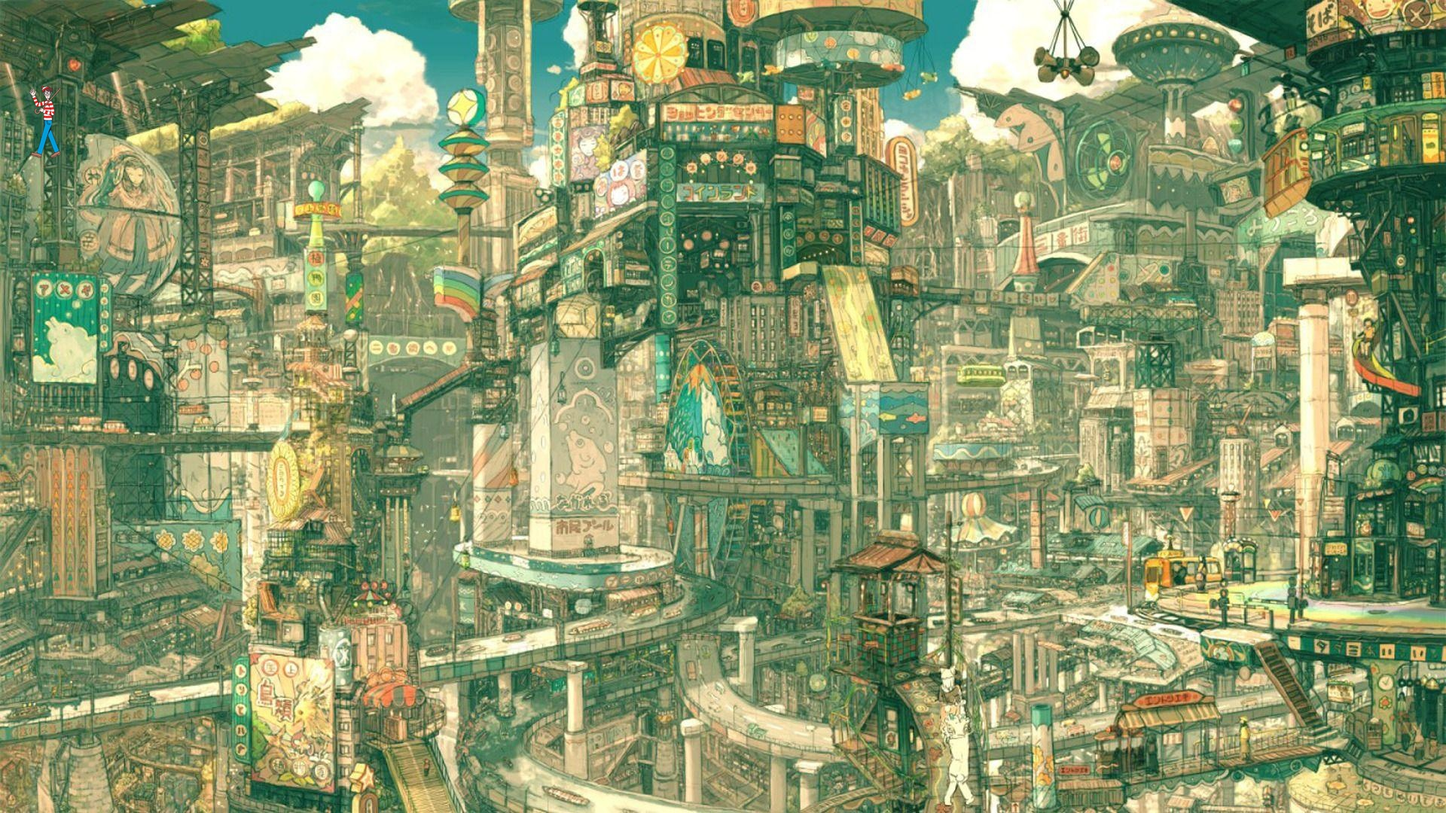waldo: (29, 86, 61, 158)
